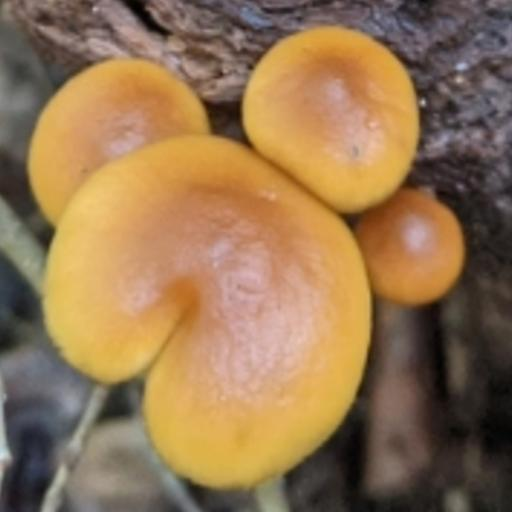mushroom: (22, 19, 470, 495)
